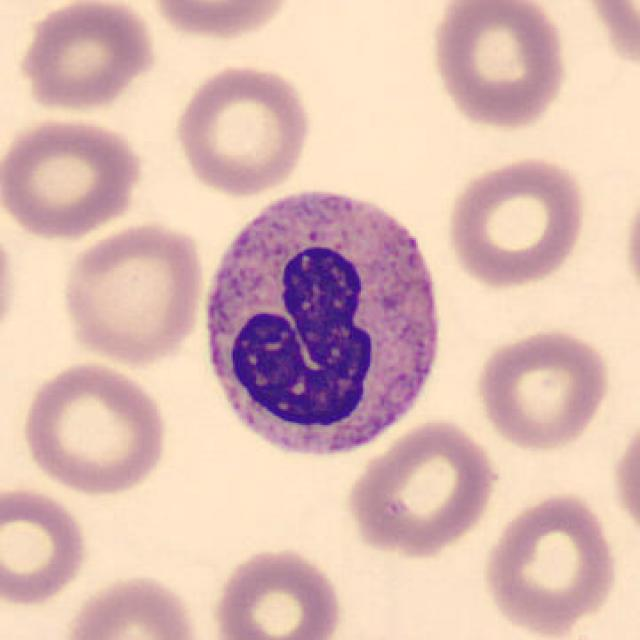Neutrophil: (191, 173, 454, 472)
RBC: (340, 416, 503, 561), (55, 218, 210, 366), (16, 358, 172, 497), (478, 488, 622, 636), (443, 152, 590, 291), (170, 60, 314, 199), (427, 0, 572, 132), (2, 113, 148, 241), (471, 325, 613, 453), (11, 0, 160, 115), (208, 543, 347, 640), (0, 481, 92, 608), (57, 569, 208, 640), (144, 0, 298, 42), (576, 0, 640, 78), (608, 406, 640, 550), (0, 212, 23, 356), (620, 174, 640, 314)
